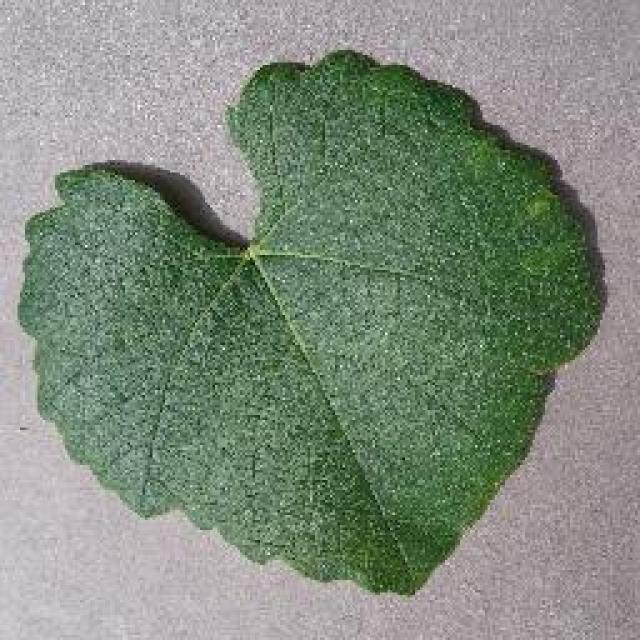Grape___healthy: (18, 50, 598, 592)
